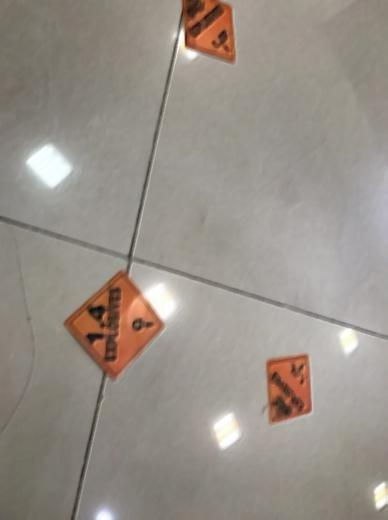explosive: (64, 269, 173, 382), (265, 352, 316, 423), (181, 1, 237, 65)
